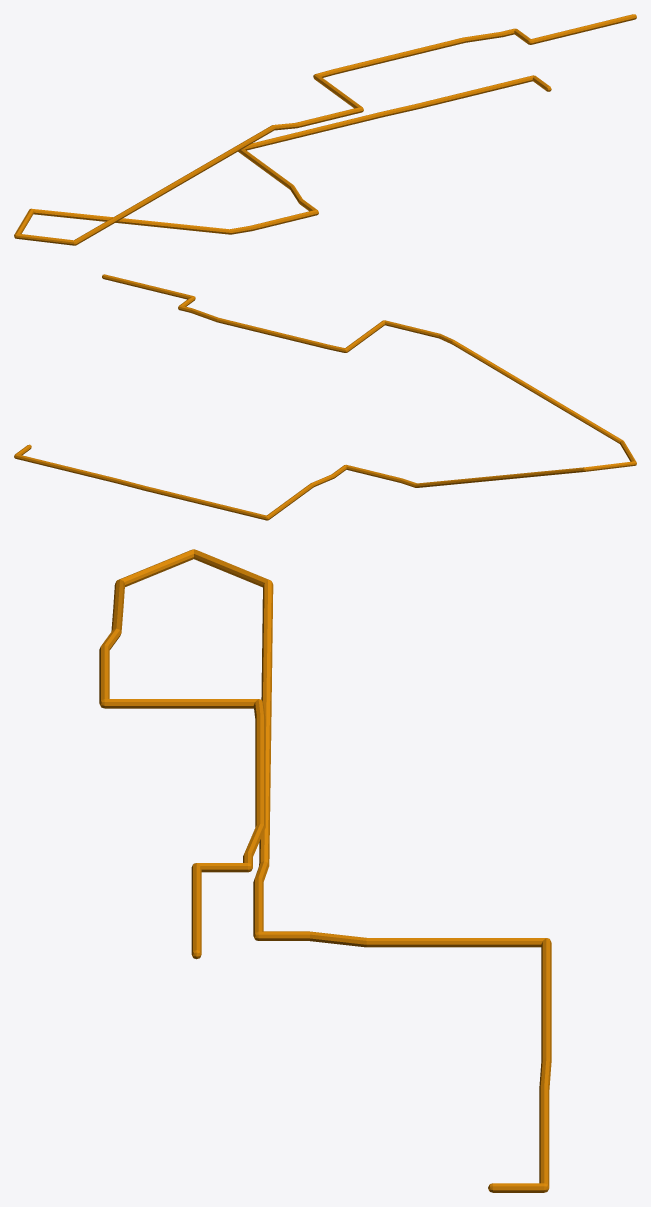
3 views of the same model, one above another, from view 1: azimuth 30°, elevation 25°; view 2: azimuth 150°, elevation 25°; view 3: azimuth 270°, elevation 25° (orthographic). The views are drawn at different scales.
Bounding box in the file's own units: 2406 × 520 × 881.
